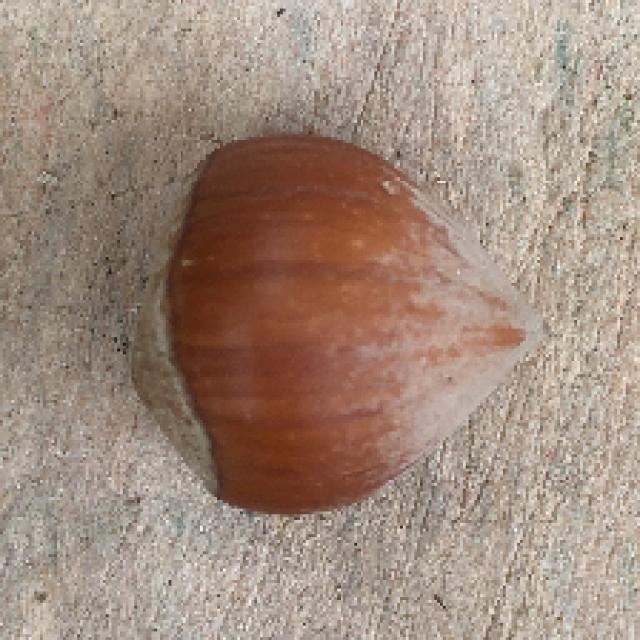qualityHazelnut: (101, 134, 553, 517)
